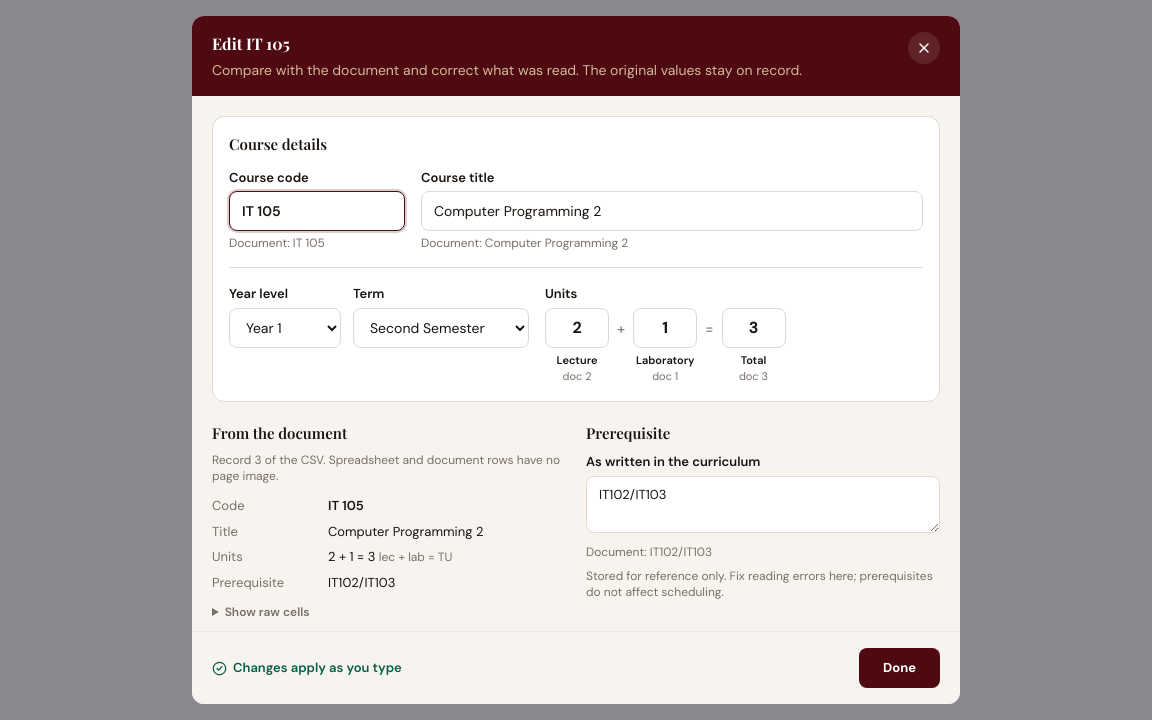
Scenario: edit course modal › keeps the exact prerequisite text editable without asking for a classification
Expected: the message reads "Changes apply as you type", [233,659,402,676]
Replace the text in the text box labelled "As written in the curriculum" with "IT 102/IT 103" at (763, 504), box [586,476,940,532]
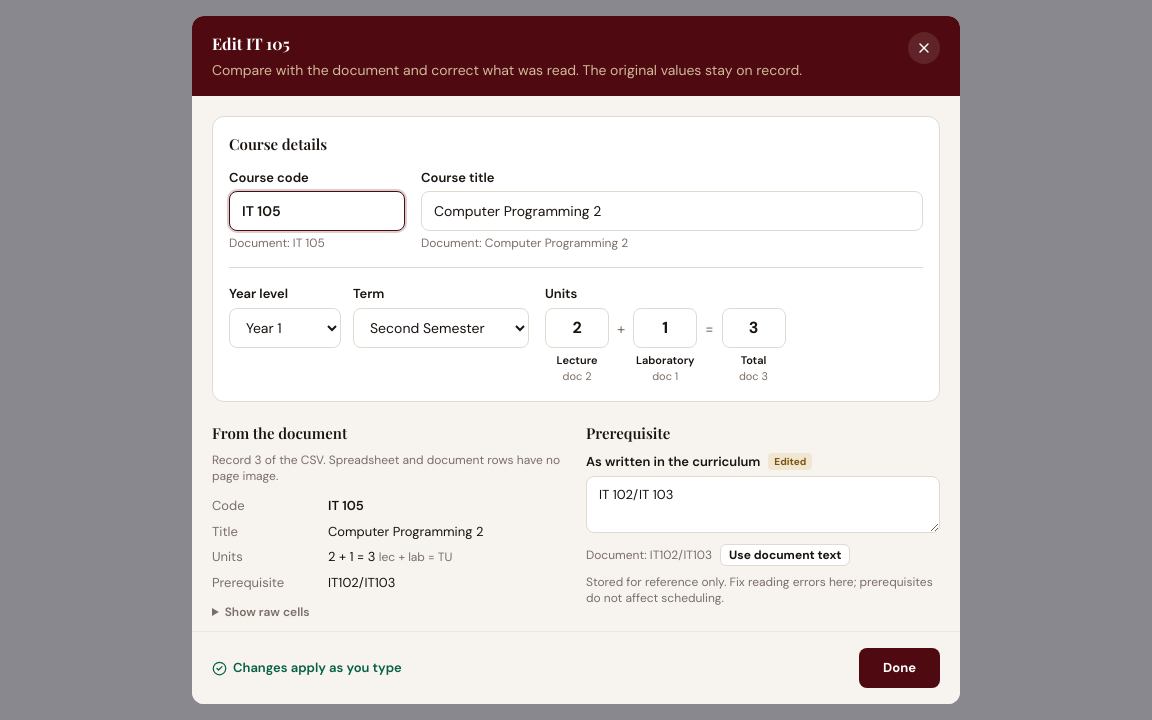
Expected: the text "Document: IT102/IT103" is shown, [586,546,712,562]
Result: the text "Edited" is shown at [768,453,812,470]
Click the button "Use document text".
click(785, 554)  # box [720,544,850,566]
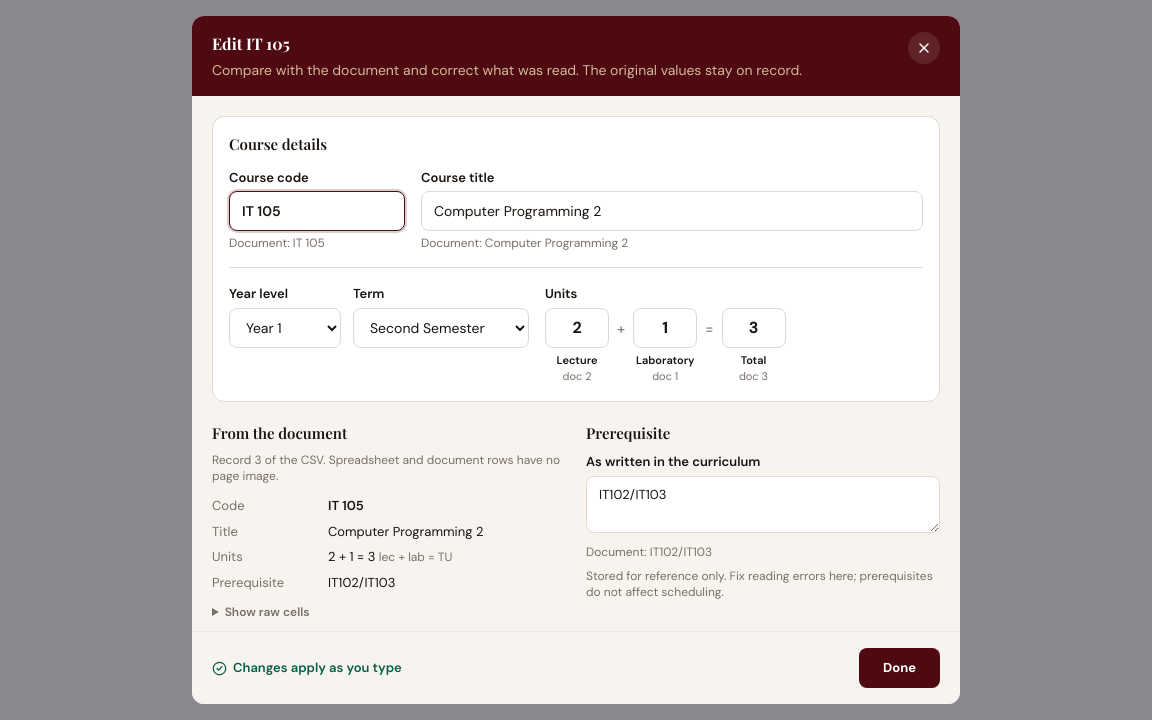
Expected: the text "IT102/IT103" is shown, [328,574,396,590]
Result: the text "Edited" is gone
